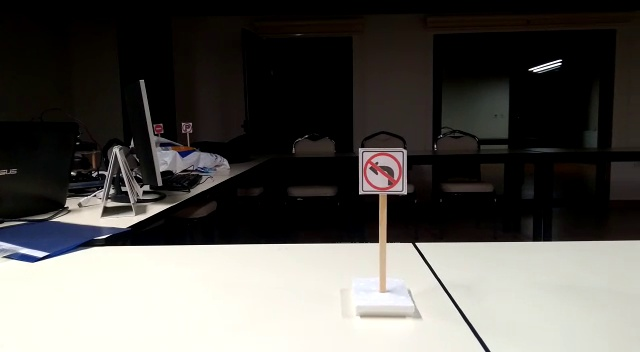sola_donulmez: (359, 150, 404, 190)
